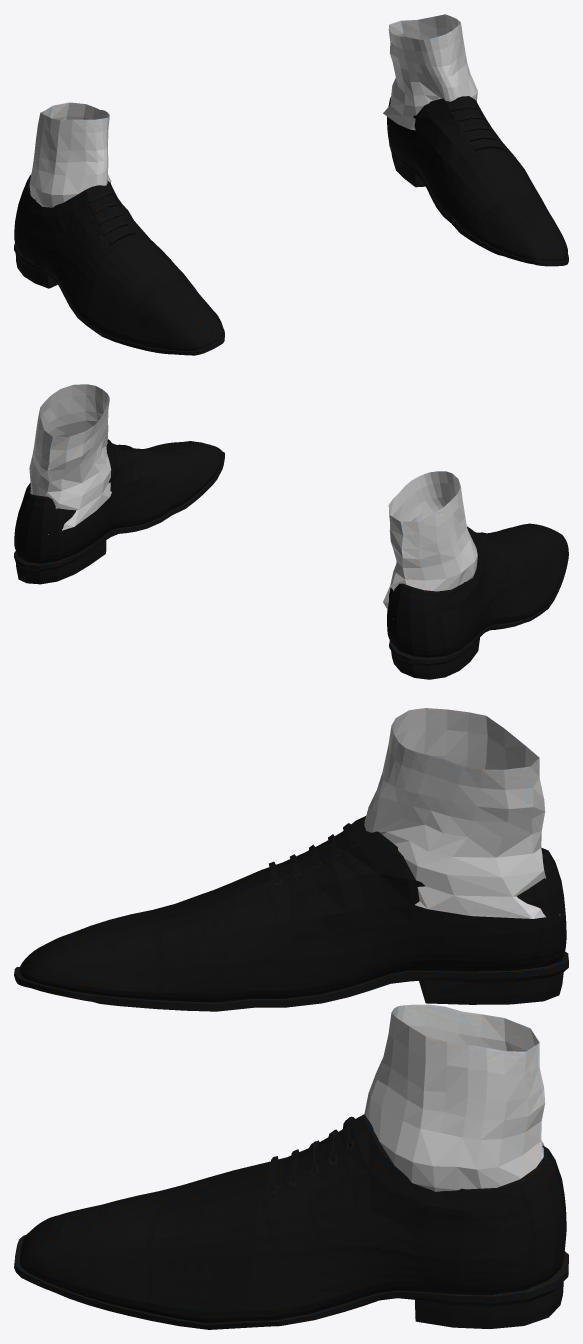
File: mhw_mindfront_shoes_oxford_female.glb
3 views of the same model, one above another, from view 1: azimuth 30°, elevation 25°; view 2: azimuth 150°, elevation 25°; view 3: azimuth 270°, elevation 25° (orthographic). The views are drawn at different scales.
Parts seen in each view (by area): view 1: mhw_mindfront_shoes_oxford_female; view 2: mhw_mindfront_shoes_oxford_female; view 3: mhw_mindfront_shoes_oxford_female.
Boxes of the visible parts, x1,y1,x2,y2 form: mhw_mindfront_shoes_oxford_female: [14, 14, 568, 355]; mhw_mindfront_shoes_oxford_female: [14, 384, 568, 679]; mhw_mindfront_shoes_oxford_female: [14, 708, 568, 1329].
Bounding box in the file's own units: 0.5356 × 0.1894 × 0.3368.
1 material, 1 textured.
